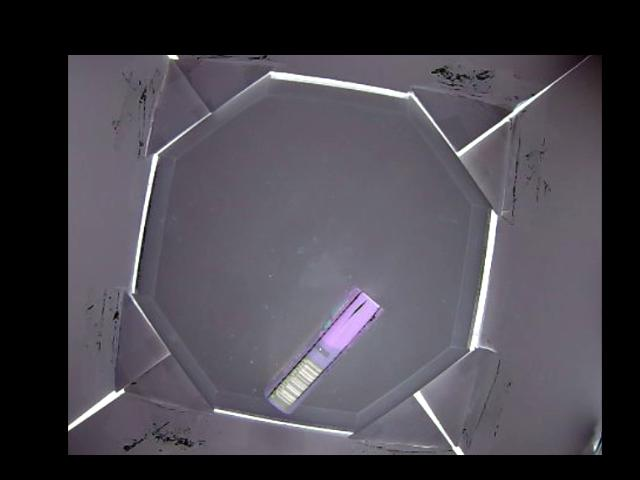Bottle: (259, 284, 385, 414)
